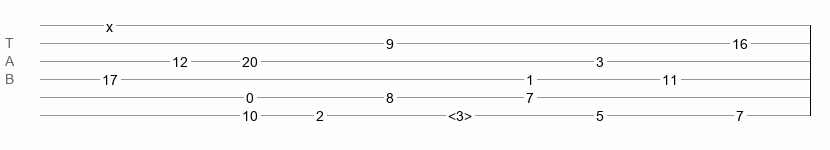0: (246, 90, 254, 100)
1: (526, 72, 534, 82)
10: (242, 108, 258, 118)
11: (662, 72, 678, 82)
12: (172, 54, 188, 64)
16: (732, 36, 748, 46)
17: (102, 72, 118, 82)
2: (316, 108, 324, 118)
20: (242, 54, 258, 64)
3: (596, 54, 604, 64)
5: (596, 108, 604, 118)
7: (526, 90, 534, 100), (736, 108, 744, 118)
8: (386, 90, 394, 100)
9: (386, 36, 394, 46)
harmonic: (448, 108, 472, 118)
x: (106, 19, 113, 27)
